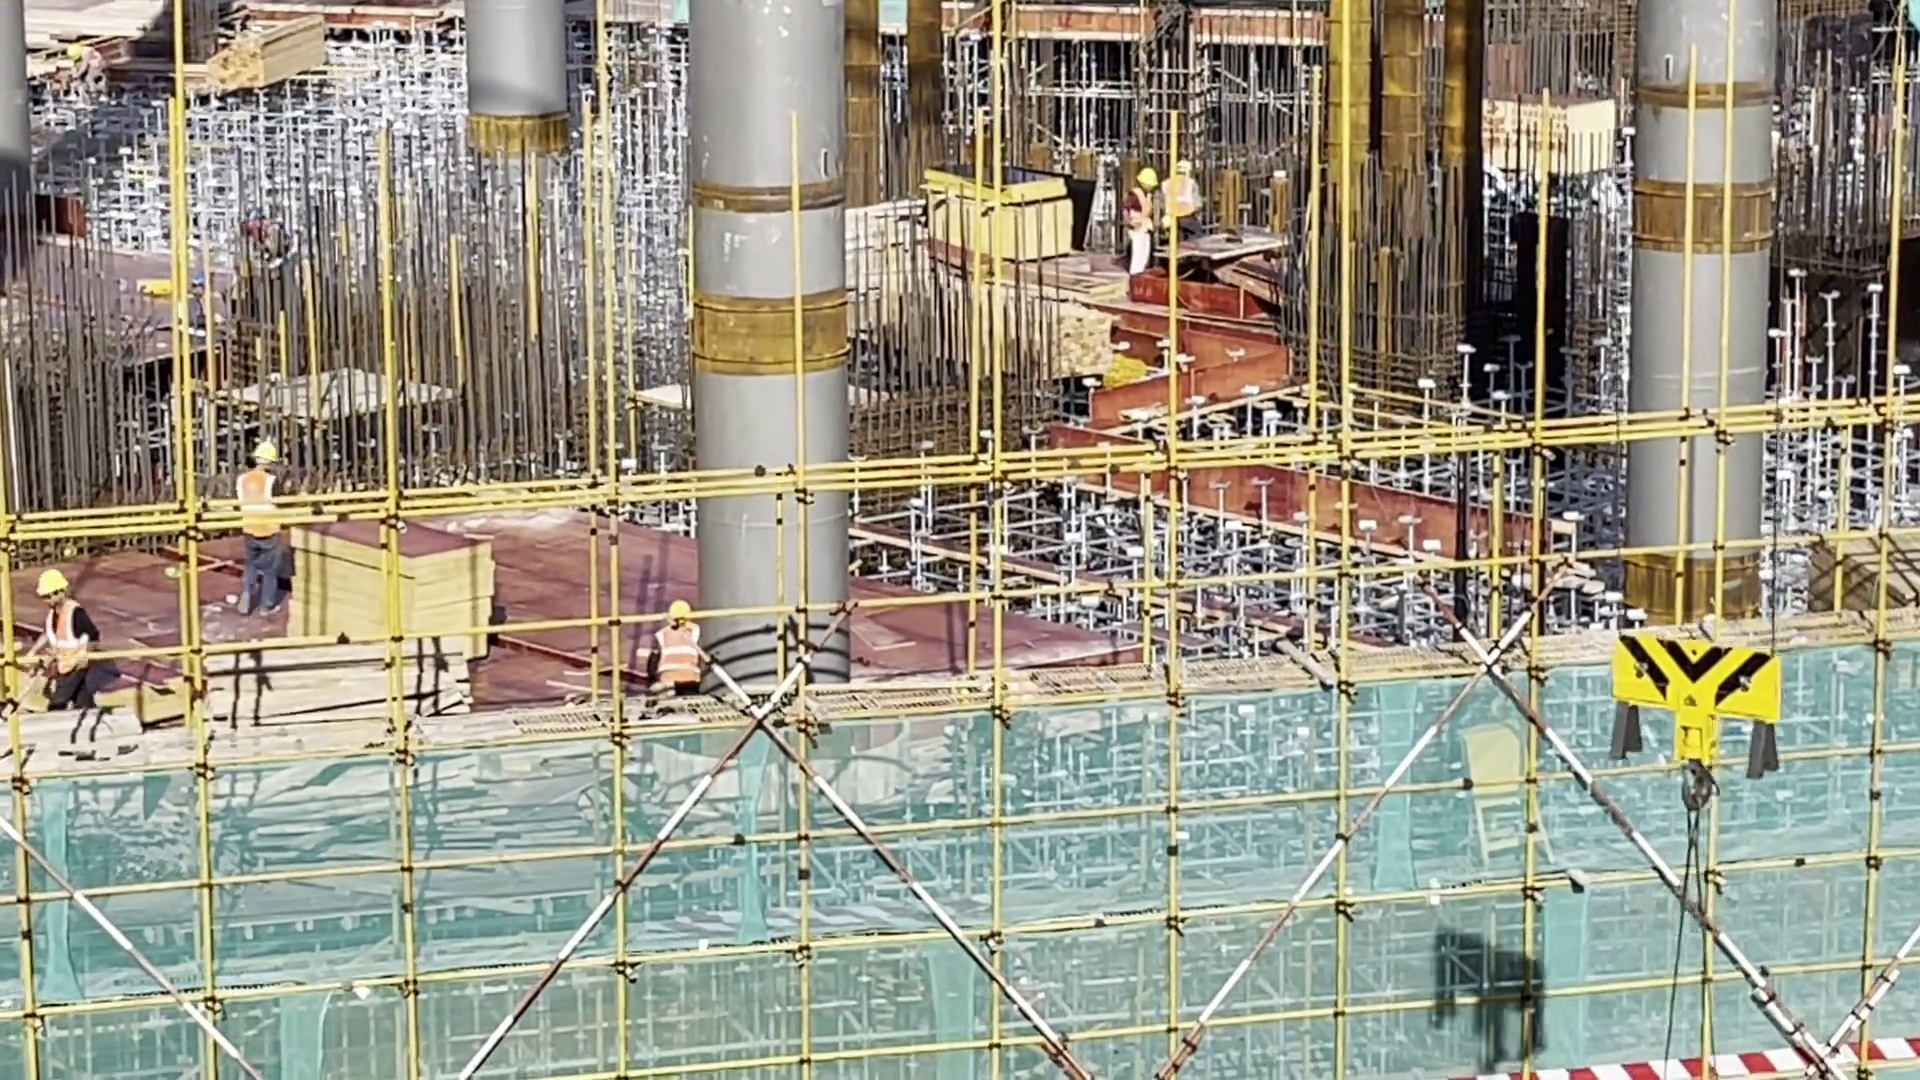board: (291, 526, 522, 663), (923, 155, 1077, 269), (1793, 537, 1920, 615)
ebox: (1451, 713, 1562, 876)
helmet: (34, 569, 75, 608), (661, 598, 696, 633), (1136, 164, 1160, 196), (254, 442, 279, 467), (1173, 158, 1194, 179)
hook: (1593, 612, 1798, 842)
person: (34, 563, 108, 737), (234, 441, 300, 613), (630, 594, 719, 724), (1162, 152, 1216, 258), (1126, 165, 1161, 286)
vest: (656, 625, 705, 688), (46, 608, 92, 676), (241, 470, 281, 540), (1125, 186, 1157, 230), (1169, 179, 1202, 217)
wood: (190, 635, 479, 764), (191, 12, 343, 113)
